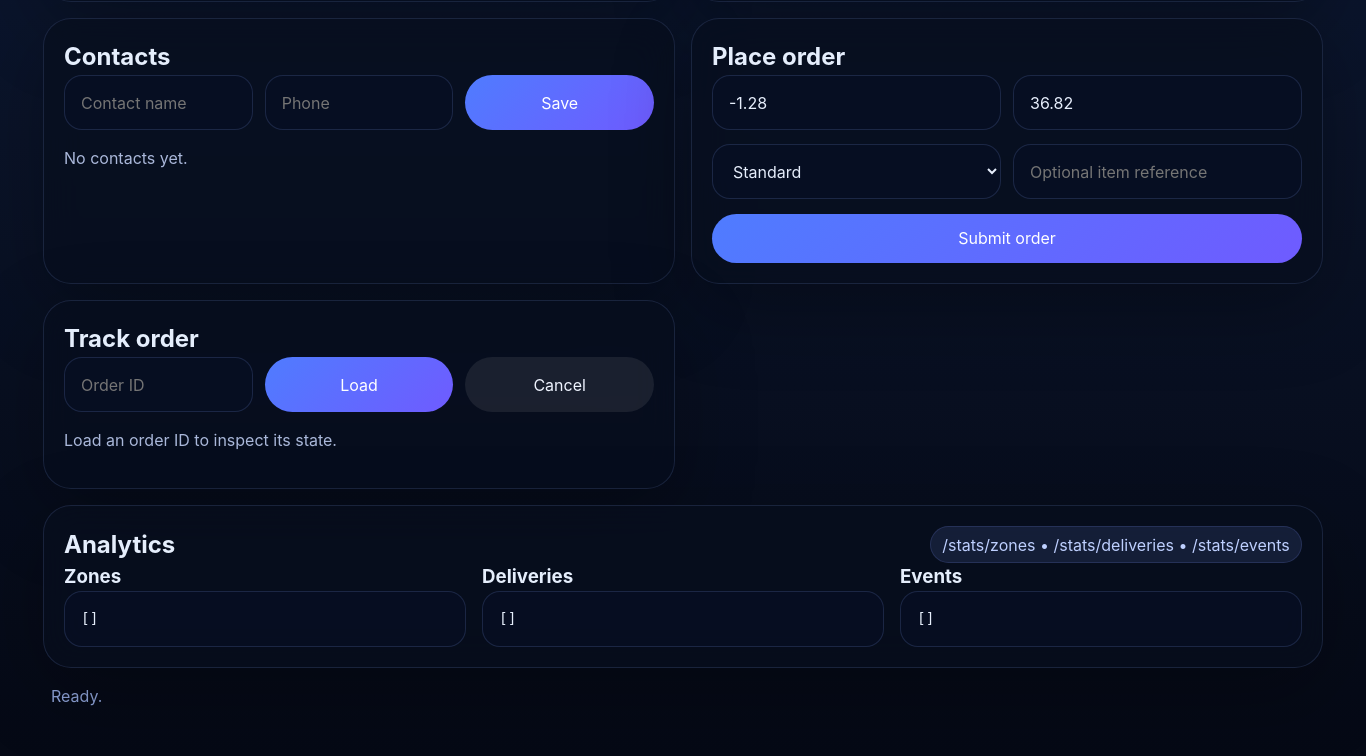
App auth and order flows › cancels an order and reflects the cancellation
(page scrolled)
Type "oid" into the field with placeholder "Order ID" at (158, 385), box [64,357,253,412]
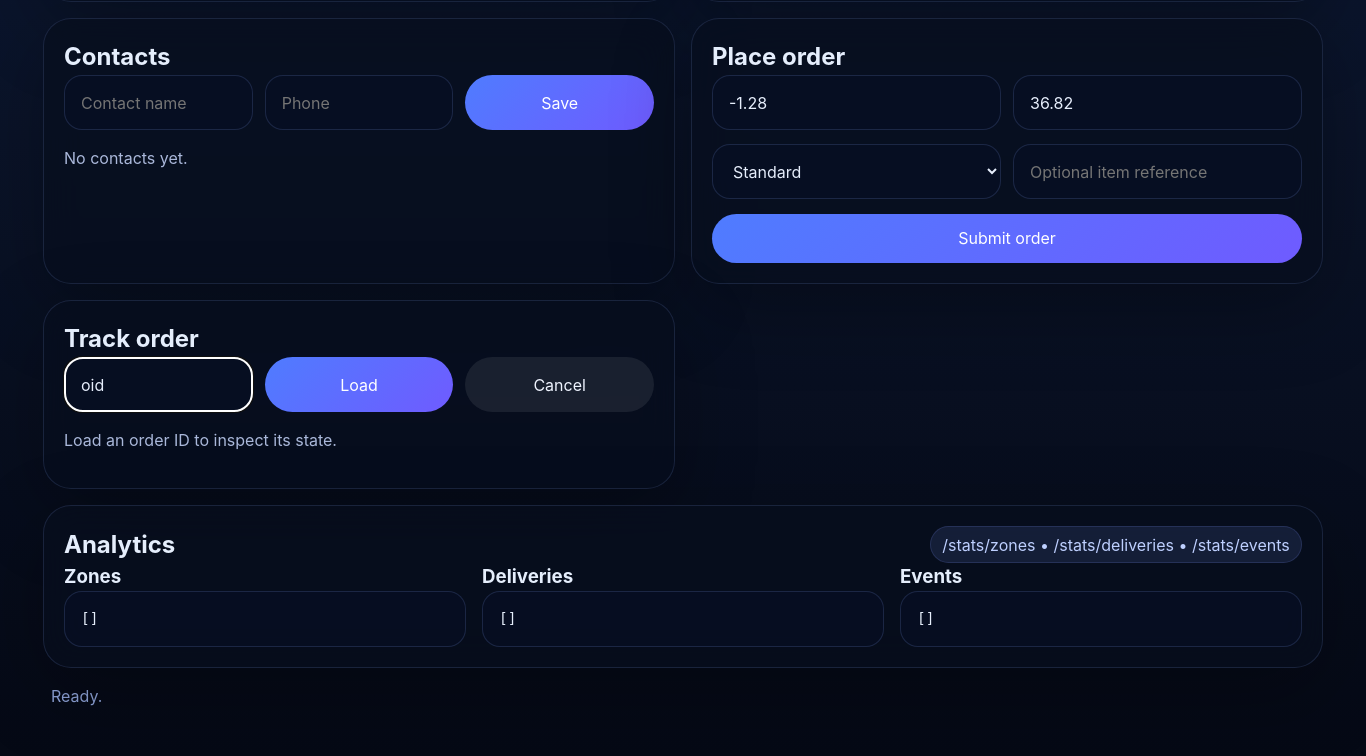
Click the button "Load" at (359, 385), box [265,357,453,412]
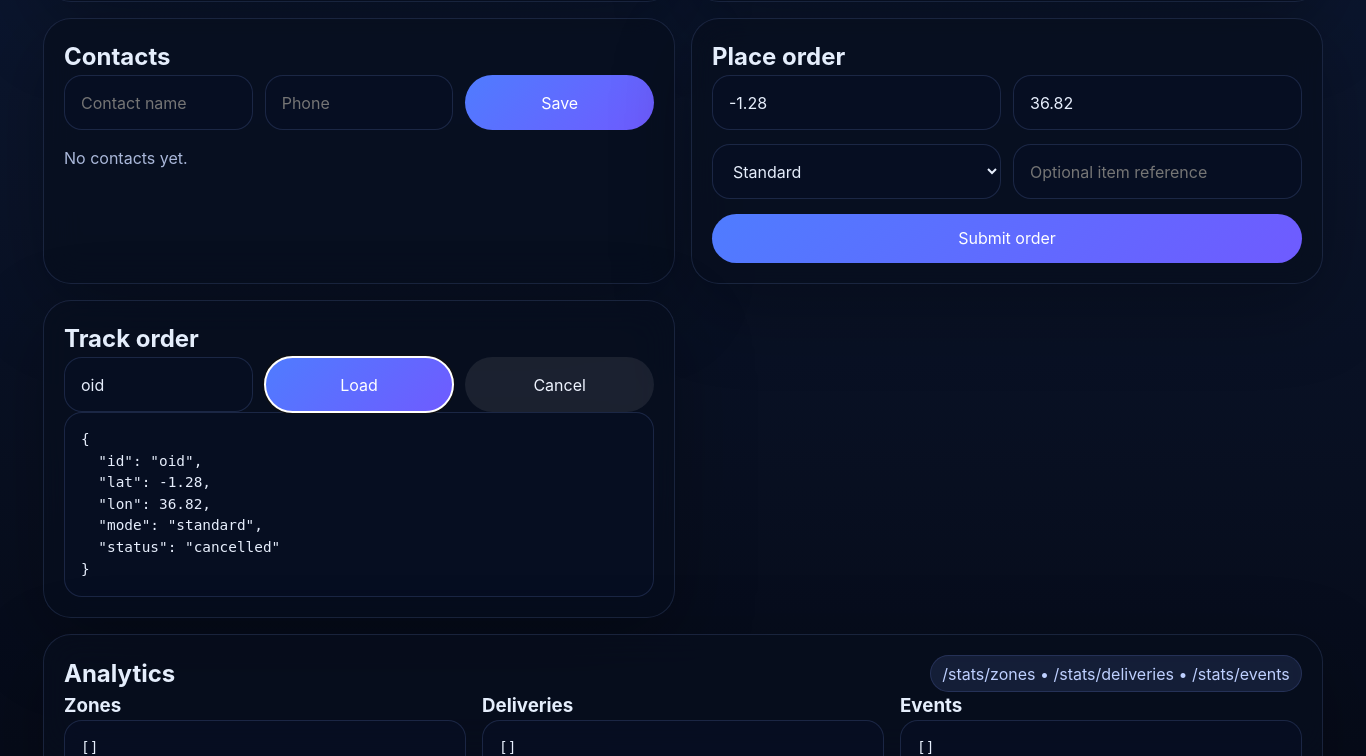
Click the button "Cancel" at (560, 385), box [465,357,654,412]
(page scrolled)
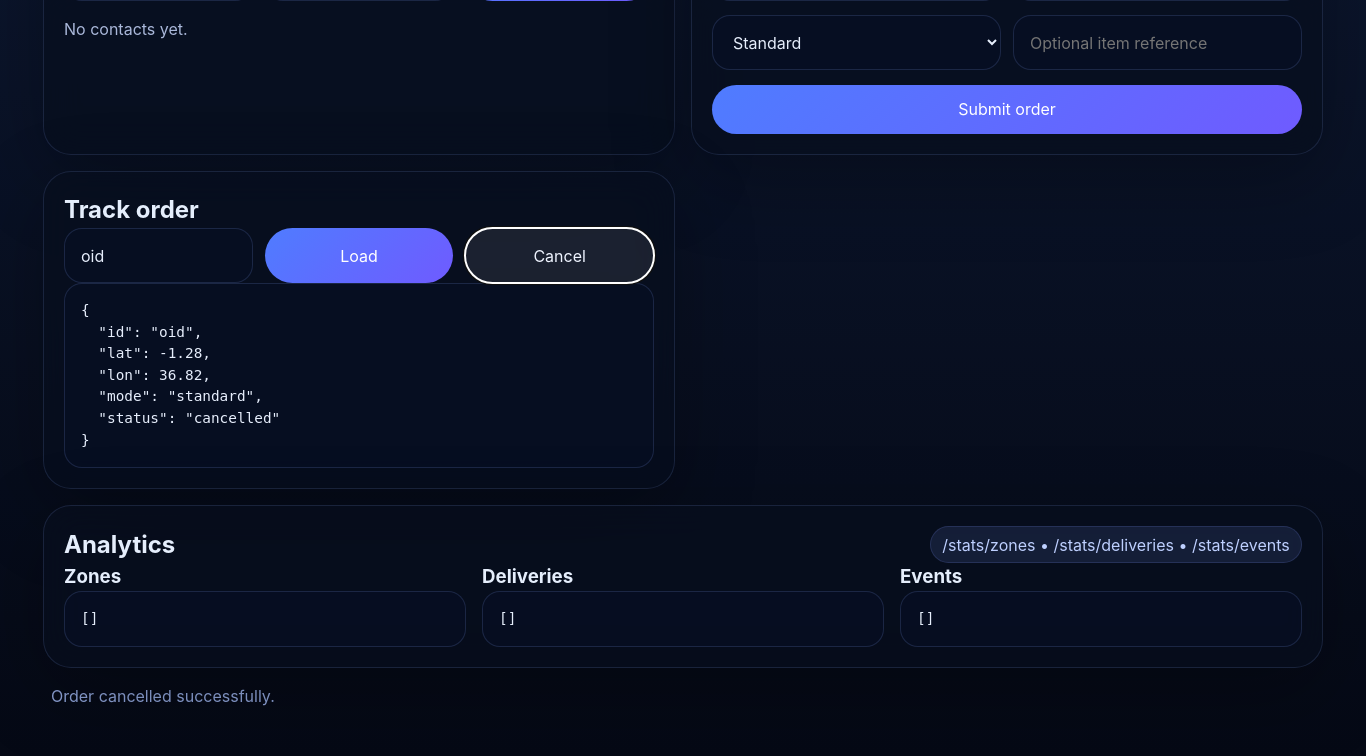
Expected: the text "Order cancelled successfully." is shown, [51,684,275,708]
